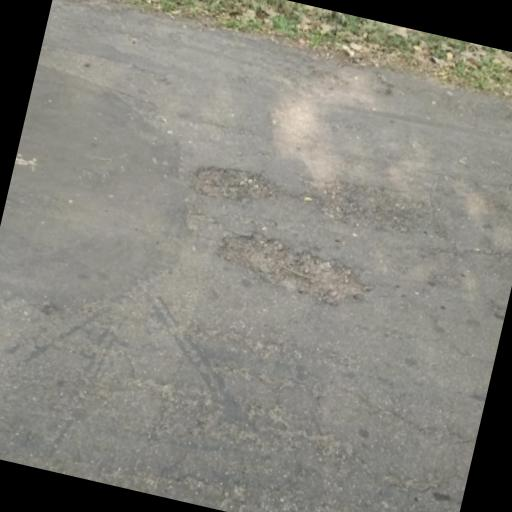pothole: (209, 220, 382, 314), (308, 170, 430, 244), (187, 154, 280, 213)
